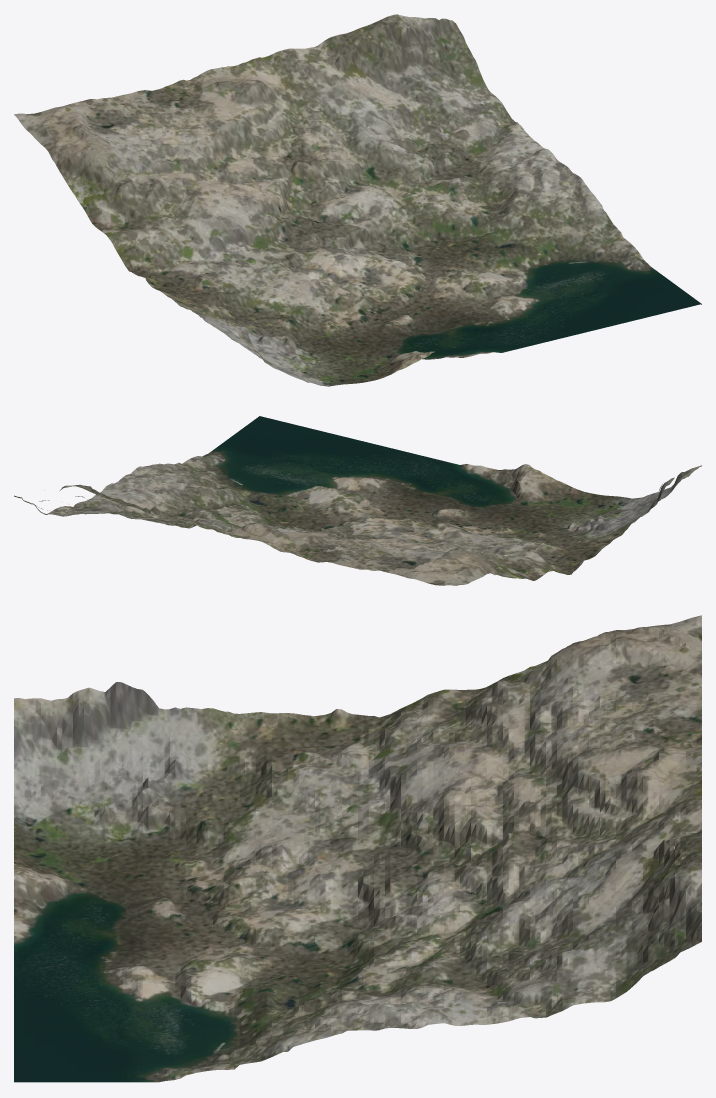
3 views of the same model, one above another, from view 1: azimuth 30°, elevation 25°; view 2: azimuth 150°, elevation 25°; view 3: azimuth 270°, elevation 25° (orthographic). The views are drawn at different scales.
Size of the model in its own units: 500 by 136 by 481.
Materials: 1 (1 with a texture image).
